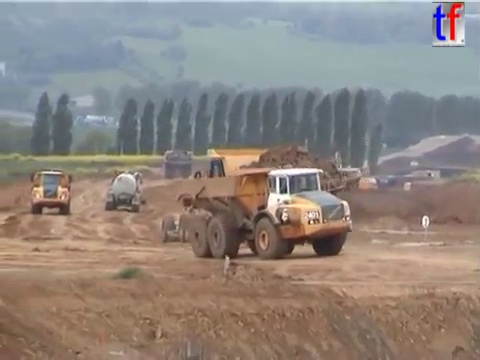motor grader: (159, 174, 263, 245)
truck: (191, 145, 364, 246), (173, 165, 355, 260), (29, 167, 74, 214), (104, 166, 143, 213), (162, 148, 193, 179)
